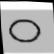no answer: (4, 13, 44, 48)
